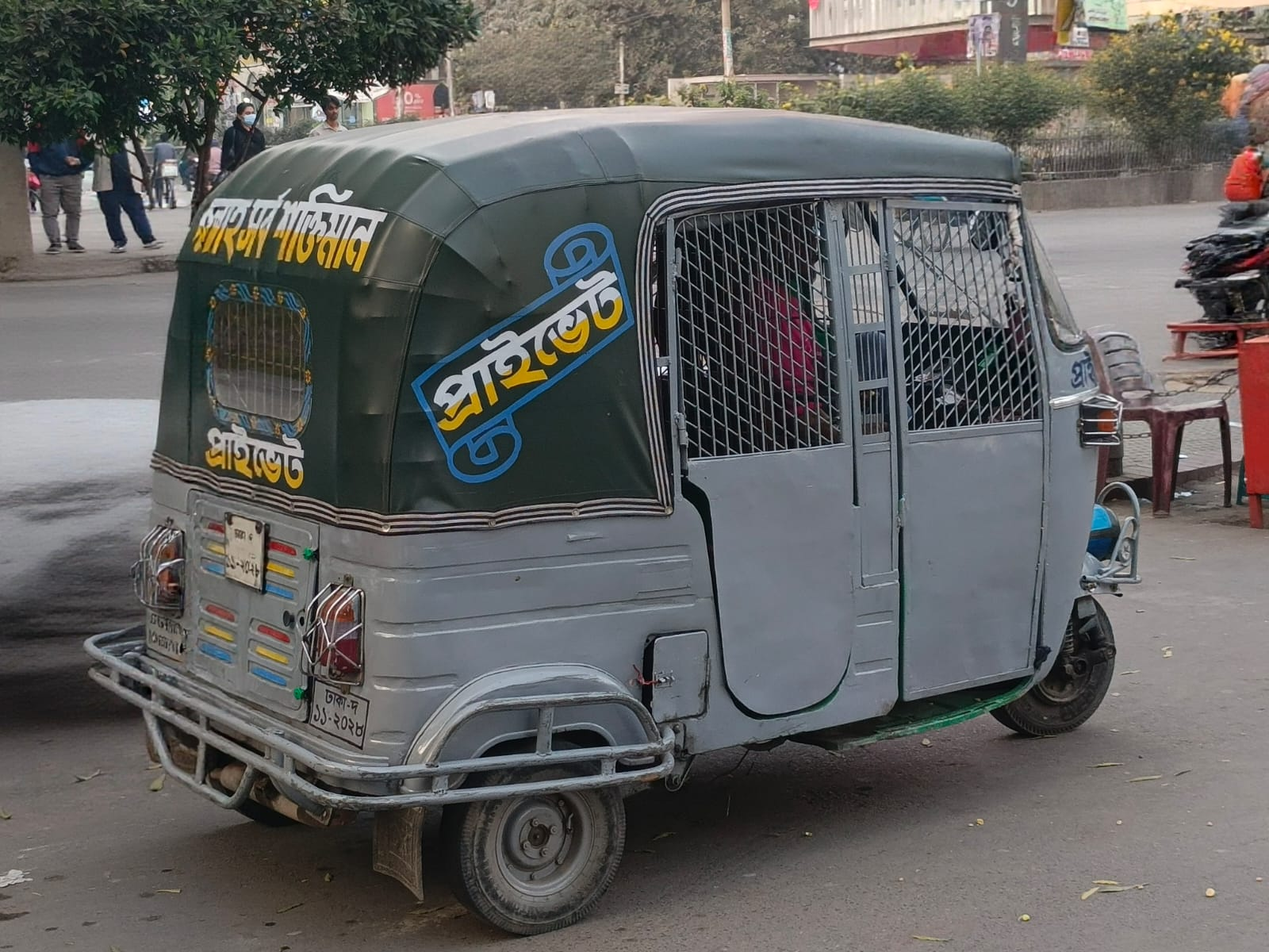Bikes: (1182, 203, 1269, 378)
cng: (85, 123, 1161, 930)
